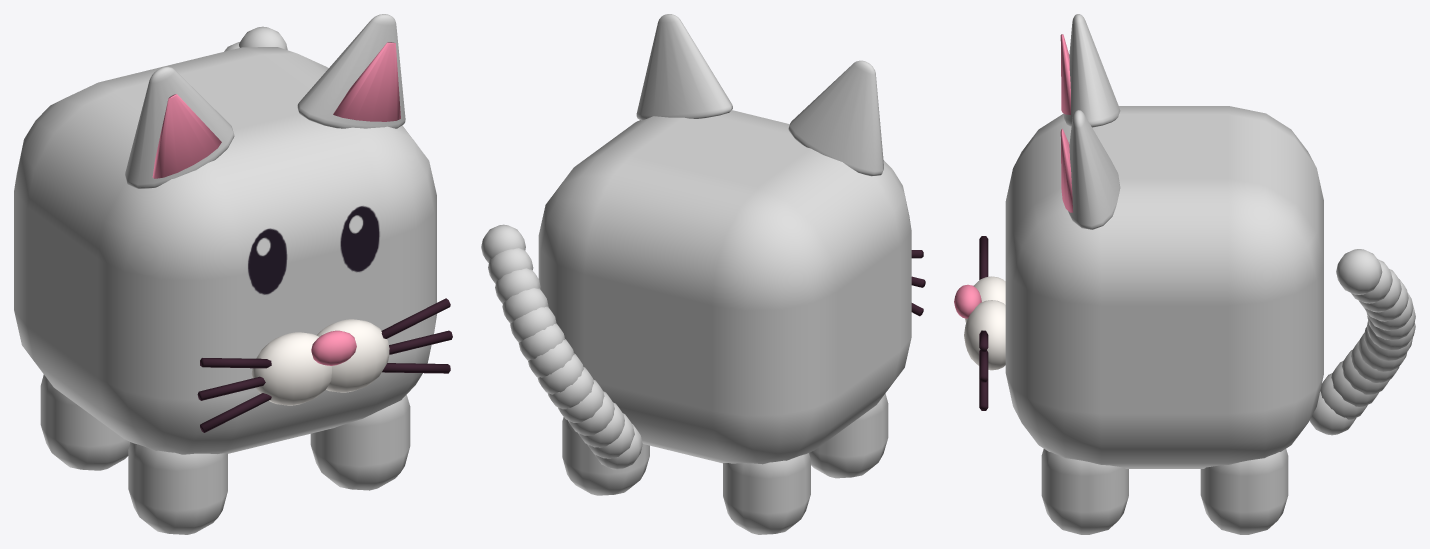
The model's file is pig.glb.
3 views of the same model, side by side, from view 1: azimuth 30°, elevation 25°; view 2: azimuth 150°, elevation 25°; view 3: azimuth 270°, elevation 25° (orthographic). The views are drawn at different scales.
Visible parts, largest first — view 1: Tint_Body, Tint_Leg, Tint_Leg.002, Tint_Ear, Tint_Ear.001, Tint_Leg.001, FacePlate, Muzzle, InnerEar, InnerEar.001, Muzzle.001, Nose (+7 smaller); view 2: Tint_Body, Tint_Tail, Tint_Ear, Tint_Ear.001, Tint_Leg.001, Tint_Leg, Tint_Leg.003; view 3: Tint_Body, Tint_Tail, Tint_Leg.003, Tint_Leg.002, Tint_Ear.001, Tint_Ear, Muzzle.001, InnerEar.001, InnerEar, Muzzle, Nose.
Part boxes in pixels (bbox=[...]): Tint_Body: bbox=[14, 47, 436, 454]; Tint_Leg: bbox=[128, 442, 227, 534]; Tint_Leg.002: bbox=[310, 395, 410, 490]; Tint_Ear: bbox=[125, 67, 234, 189]; Tint_Ear.001: bbox=[297, 14, 405, 128]; Tint_Leg.001: bbox=[40, 374, 130, 470]; FacePlate: bbox=[248, 206, 379, 294]; Muzzle: bbox=[251, 332, 331, 405]; InnerEar: bbox=[152, 94, 221, 178]; InnerEar.001: bbox=[333, 42, 400, 121]; Muzzle.001: bbox=[316, 319, 389, 392]; Nose: bbox=[311, 330, 356, 365]; Tint_Body: bbox=[538, 110, 911, 464]; Tint_Tail: bbox=[481, 224, 642, 469]; Tint_Ear: bbox=[788, 60, 883, 176]; Tint_Ear.001: bbox=[636, 14, 732, 120]; Tint_Leg.001: bbox=[723, 453, 810, 534]; Tint_Leg: bbox=[809, 393, 888, 478]; Tint_Leg.003: bbox=[562, 417, 649, 495]; Tint_Body: bbox=[1005, 106, 1323, 468]; Tint_Tail: bbox=[1309, 249, 1415, 435]; Tint_Leg.003: bbox=[1200, 449, 1288, 534]; Tint_Leg.002: bbox=[1041, 449, 1128, 534]; Tint_Ear.001: bbox=[1068, 110, 1120, 229]; Tint_Ear: bbox=[1064, 14, 1120, 127]; Muzzle.001: bbox=[964, 300, 1005, 370]; InnerEar.001: bbox=[1060, 128, 1073, 212]; InnerEar: bbox=[1060, 34, 1070, 114]; Muzzle: bbox=[965, 276, 1005, 322]; Nose: bbox=[954, 284, 981, 318].
Bounding box in the file's own units: 0.868 × 1.18 × 1.16.
Materials: 5 (1 with a texture image).
